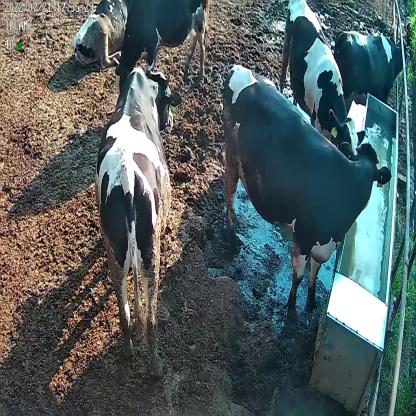cow: (219, 60, 394, 316), (94, 61, 173, 376), (278, 1, 366, 161), (113, 0, 212, 101), (334, 28, 409, 102)
